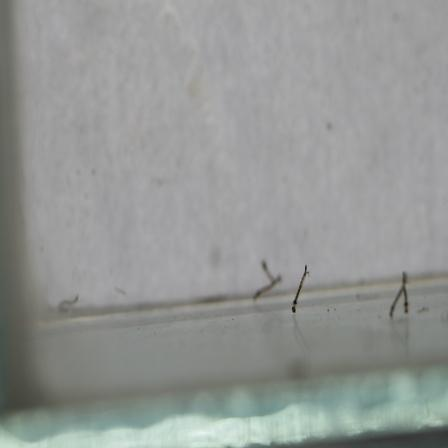Jentik-Nyamuk: (386, 270, 413, 319), (289, 263, 312, 317)
